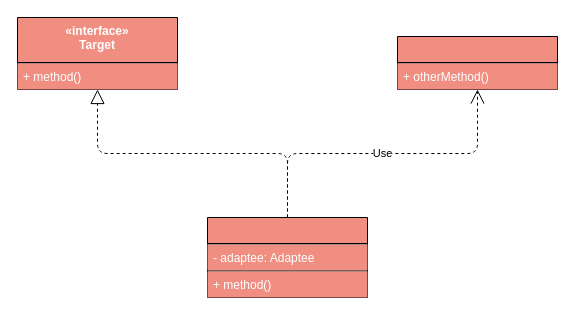
The diagram is 575 pixels wide and 318 high, and some of its shapes have lost their labels. The box of each missing label's shape, as (x1, y1, x2, y2) in pixels:
Adaptee: (396, 36, 558, 90)
Adapter: (206, 216, 368, 298)
